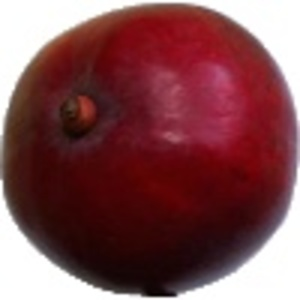manga: (1, 2, 300, 298)
